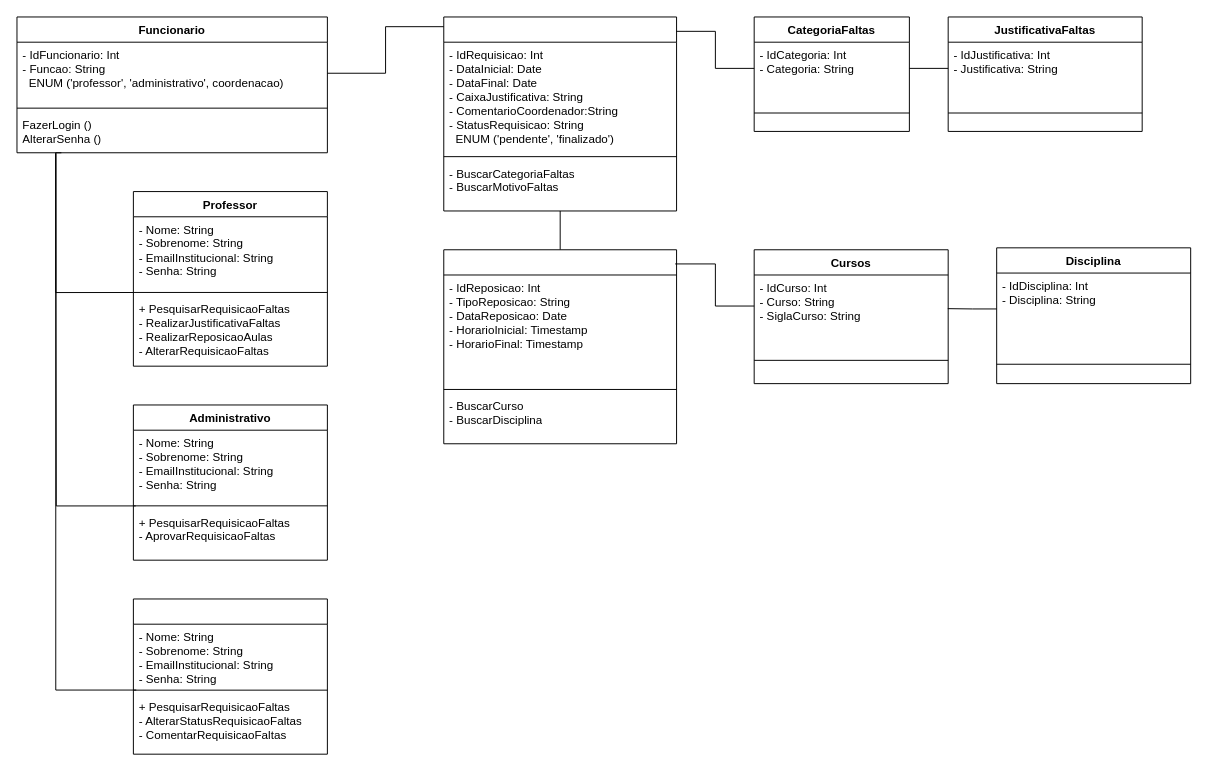
Image size: 1208x774. Some labels were removed from this diagram. Here are the shapes that lost their labels. From the top down, the box of each, then its label:
(443, 16, 677, 211): RequisicaoFaltas
(443, 249, 677, 444): ReposicaoFaltas
(132, 598, 327, 754): Coordenador
